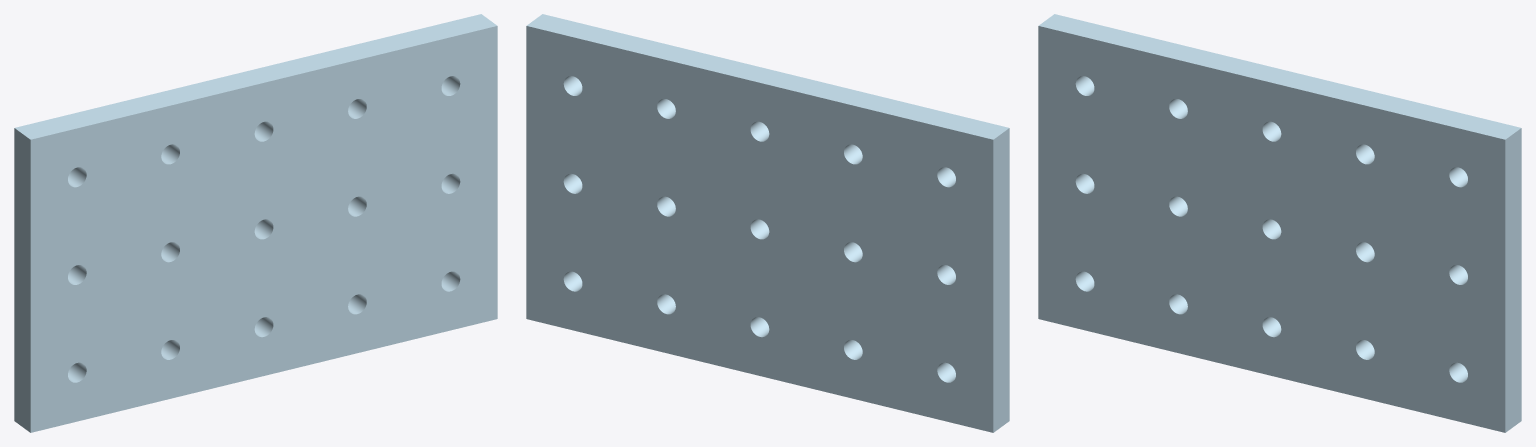
3 renders of one model, left to right at view 1: azimuth 30°, elevation 25°; view 2: azimuth 150°, elevation 25°; view 3: azimuth 330°, elevation 25°, orthographic.
Parts seen in each view (by area): view 1: Part 1; view 2: Part 1; view 3: Part 1.
Part boxes in pixels (x1,y1,x2,y2): Part 1: (14, 14, 497, 432); Part 1: (526, 14, 1009, 432); Part 1: (1038, 14, 1521, 432).
Bounding box in the file's own units: 0.2 × 0.12 × 0.012.
